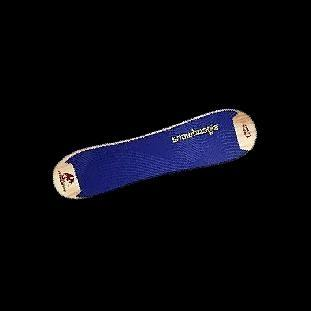Snowboard: (51, 107, 257, 200)
